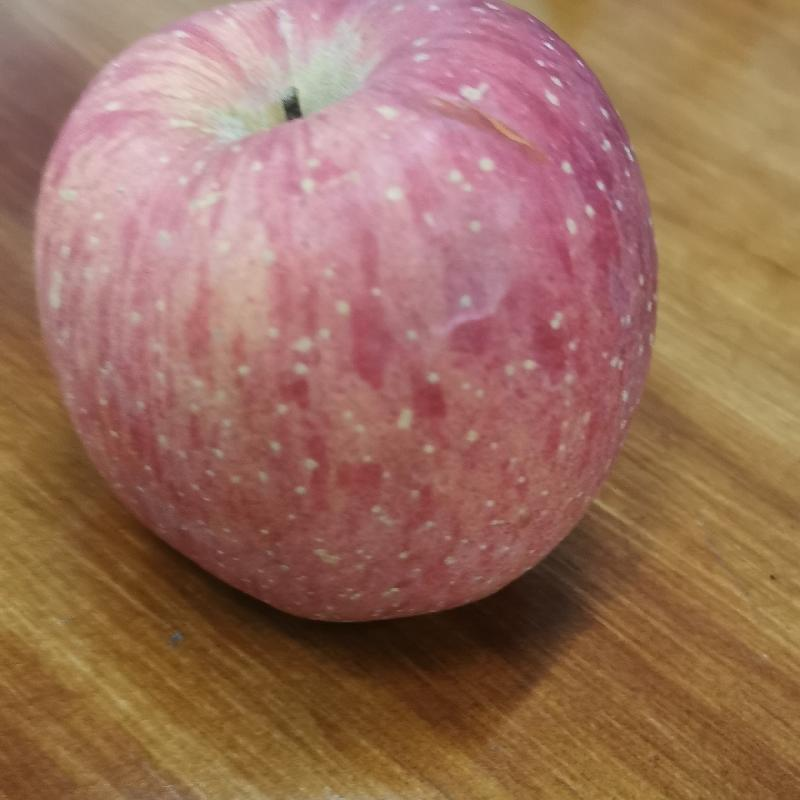apples: (27, 3, 663, 629)
